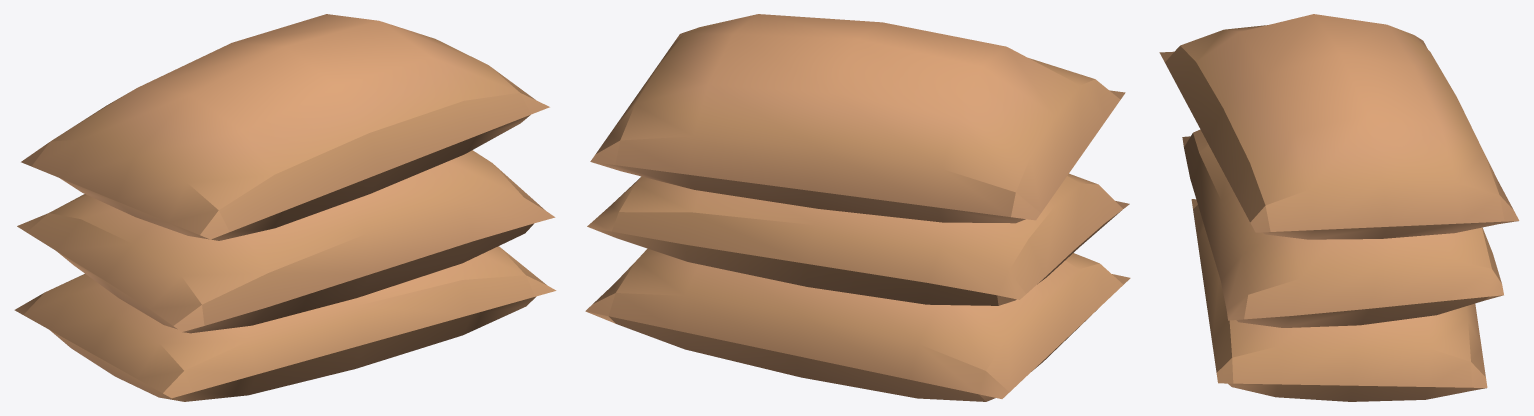
File: BagStack_1.fbx
3 views of the same model, side by side, from view 1: azimuth 30°, elevation 25°; view 2: azimuth 150°, elevation 25°; view 3: azimuth 270°, elevation 25° (orthographic). The views are drawn at different scales.
Visible parts, largest first — view 1: BagStack_1; view 2: BagStack_1; view 3: BagStack_1.
Boxes of the visible parts, bbox=[...] form: BagStack_1: bbox=[14, 14, 556, 401]; BagStack_1: bbox=[585, 14, 1130, 401]; BagStack_1: bbox=[1159, 14, 1519, 401].
Size of the model in its own units: 129 by 84.42 by 96.76.
